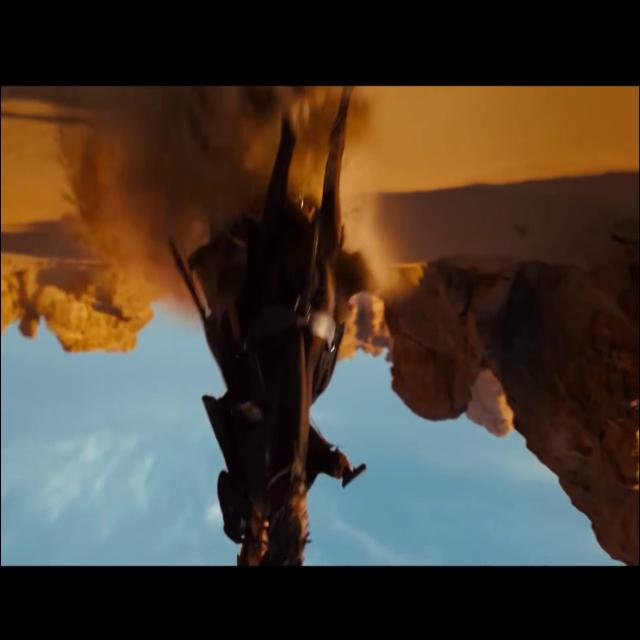weapons: (333, 442, 374, 505)
